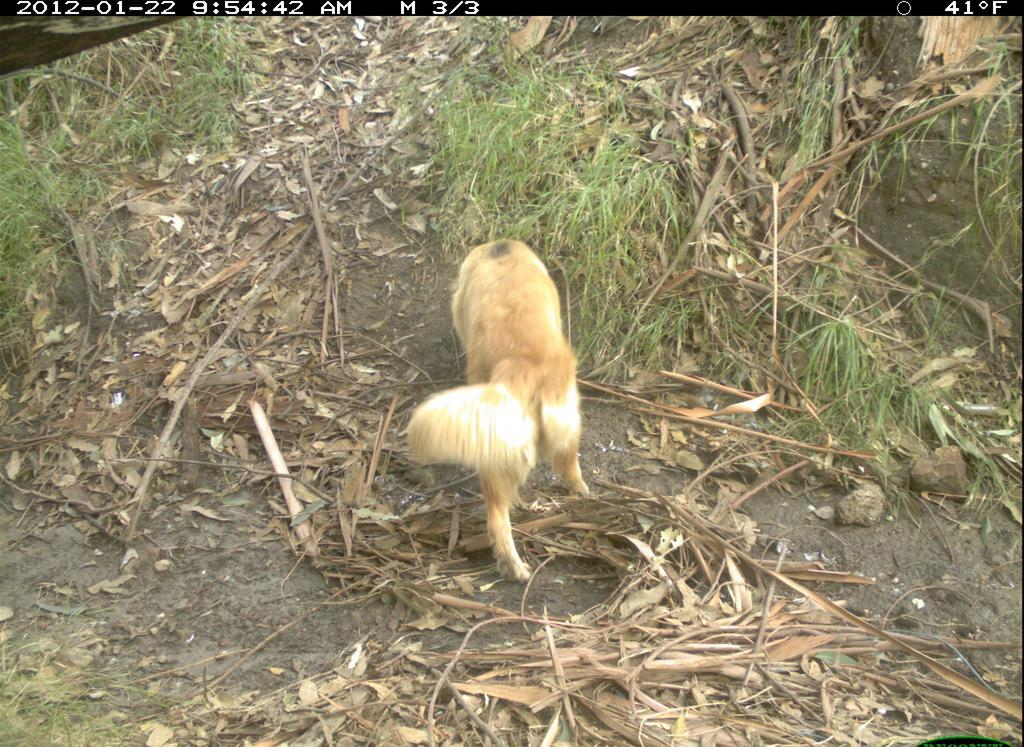dog: (392, 209, 603, 591)
